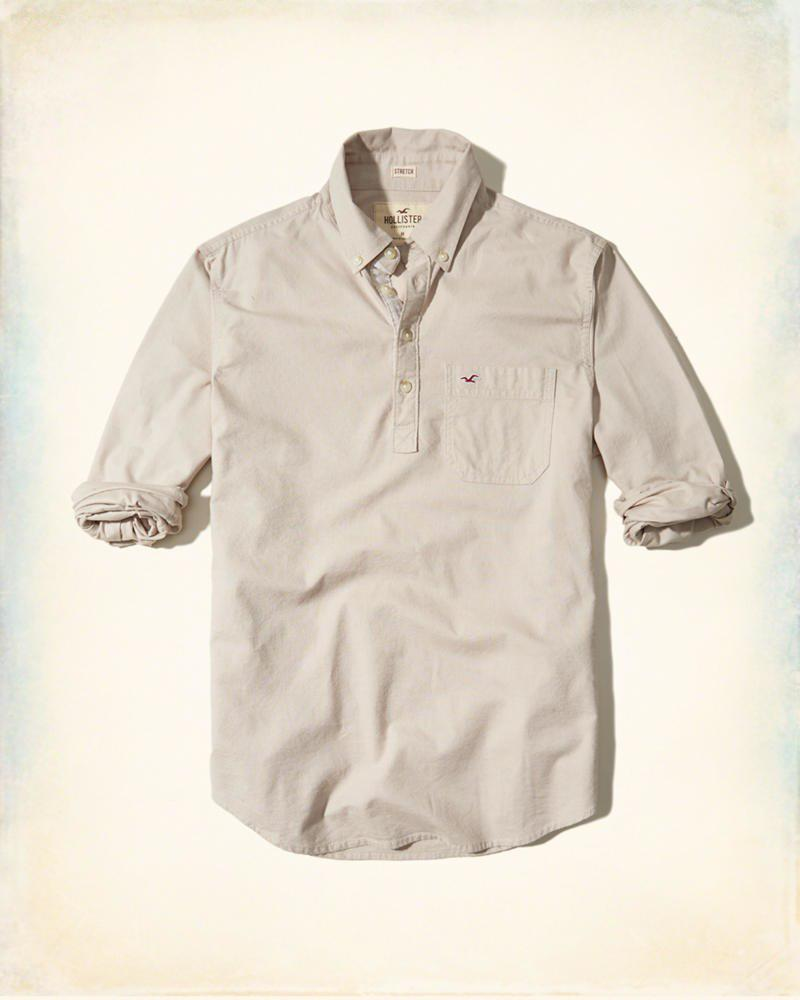teeshirt: (64, 125, 736, 868)
